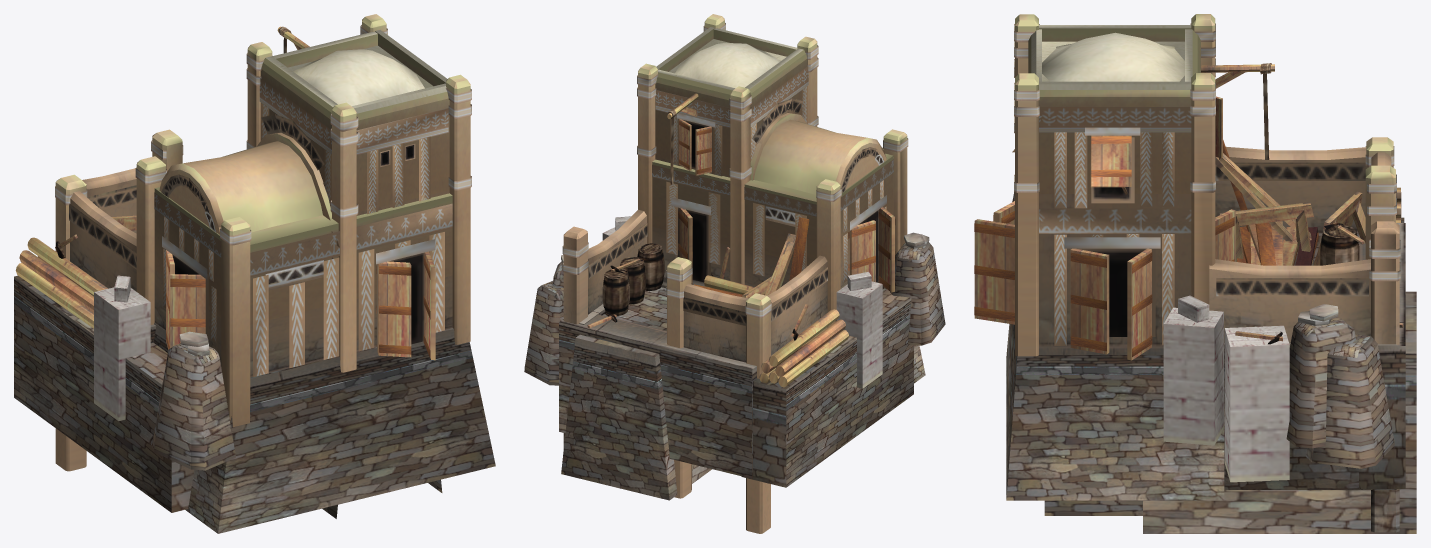
Rendered from kush_storehouse.glb.
The picture shows the model from 3 angles, left to right: view 1: azimuth 30°, elevation 25°; view 2: azimuth 150°, elevation 25°; view 3: azimuth 270°, elevation 25°; orthographic projection. The views are drawn at different scales.
Visible parts, largest first — view 1: kush_storehouse_part0; view 2: kush_storehouse_part0; view 3: kush_storehouse_part0.
Boxes of the visible parts, x1,y1,x2,y2 form: kush_storehouse_part0: [14, 14, 495, 533]; kush_storehouse_part0: [524, 14, 945, 533]; kush_storehouse_part0: [974, 14, 1416, 533].
Size of the model in its own units: 3.4 by 4.11 by 3.4.
Materials: 1 (1 with a texture image).
